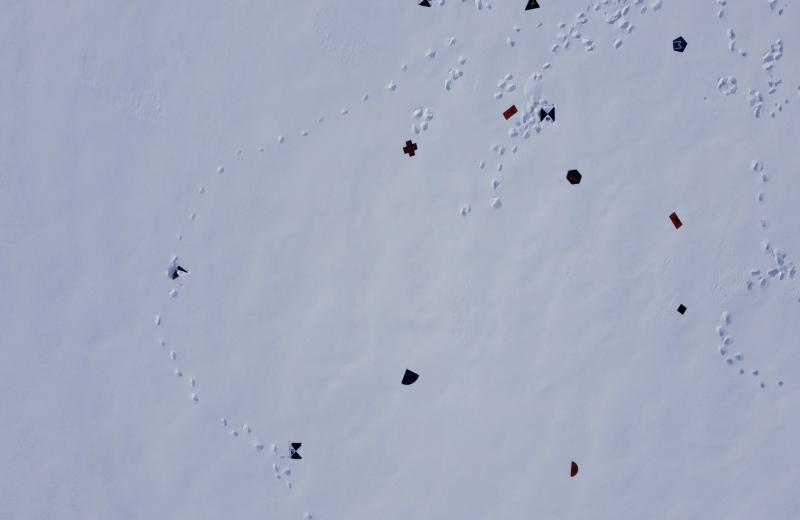Cross: (403, 139, 418, 157)
Hexagon: (566, 167, 582, 187)
Pentagon: (672, 34, 688, 54)
Quarter Circle: (400, 366, 420, 388)
Rectangle: (668, 210, 683, 233), (502, 105, 518, 120)
Semi Circle: (567, 461, 581, 477)
Square: (676, 303, 687, 317)
Triangle: (524, 0, 542, 12)
